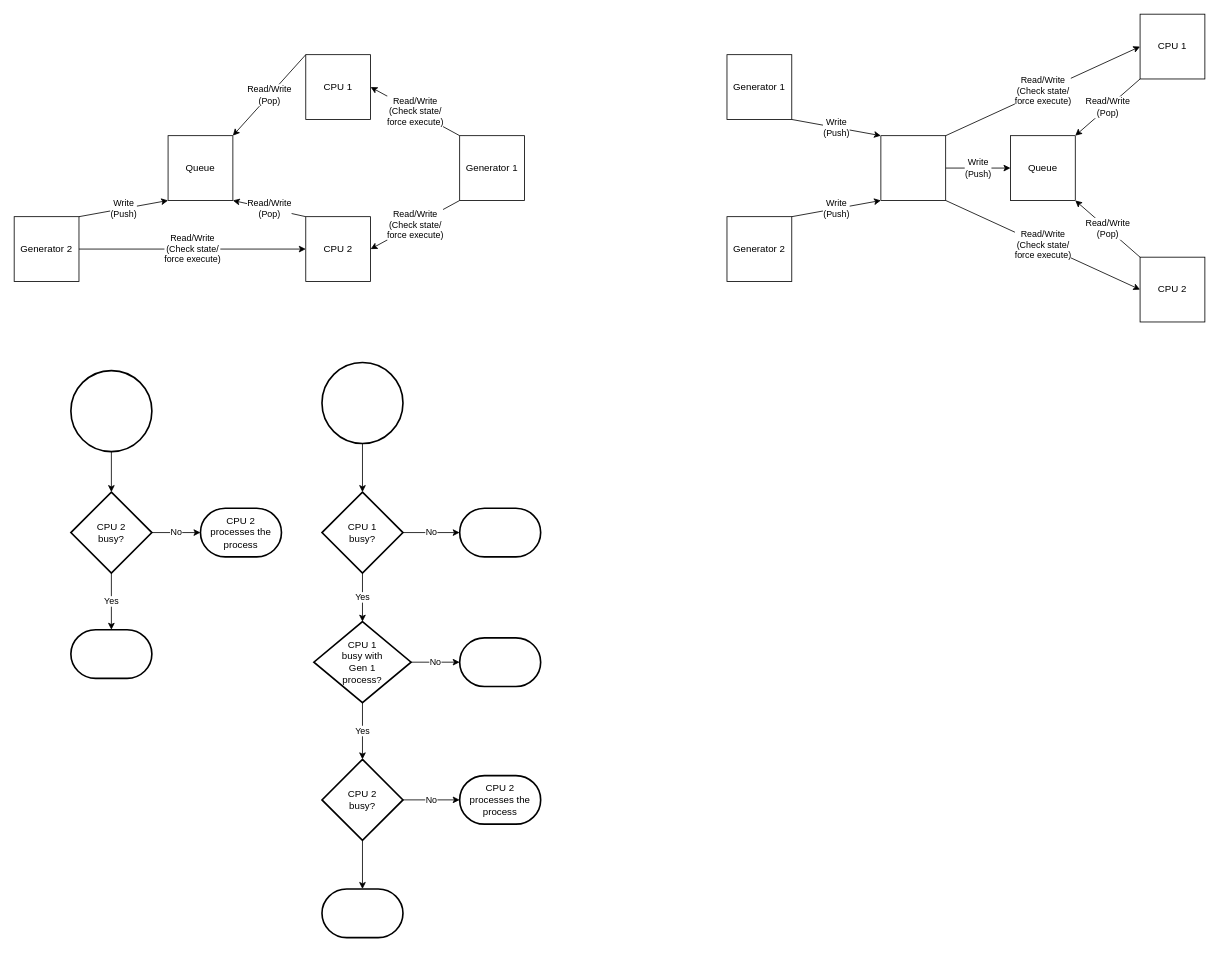
This 1219x953 diagram has some shape labels left out. Each missing label, with the box of its shape:
CPU 1 processes the process: (458, 507, 541, 557)
Enqueue the process: (70, 629, 152, 679)
Gen 1 generates a process: (321, 361, 403, 444)
Gen 2 generates a process: (70, 369, 152, 452)
Scheduler: (880, 135, 946, 200)
The process gets destroyed: (321, 888, 403, 938)
The process is lost: (458, 637, 541, 687)
